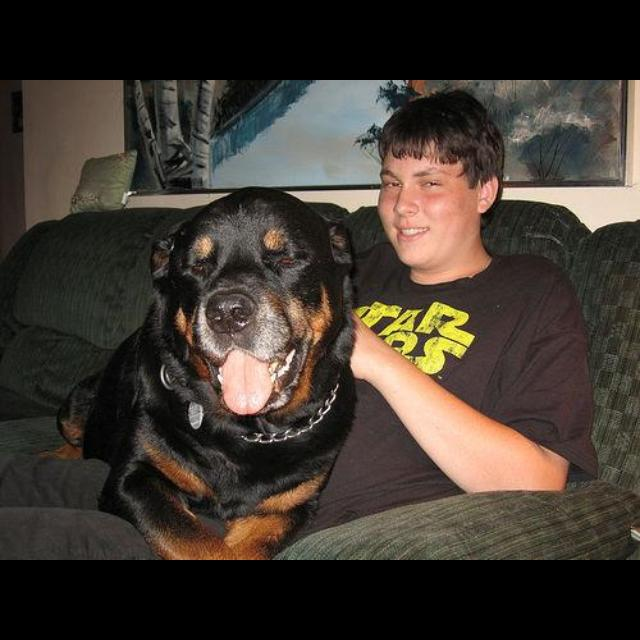face: (378, 149, 472, 268)
person: (310, 89, 600, 533)
rottweiler: (39, 187, 360, 560)
